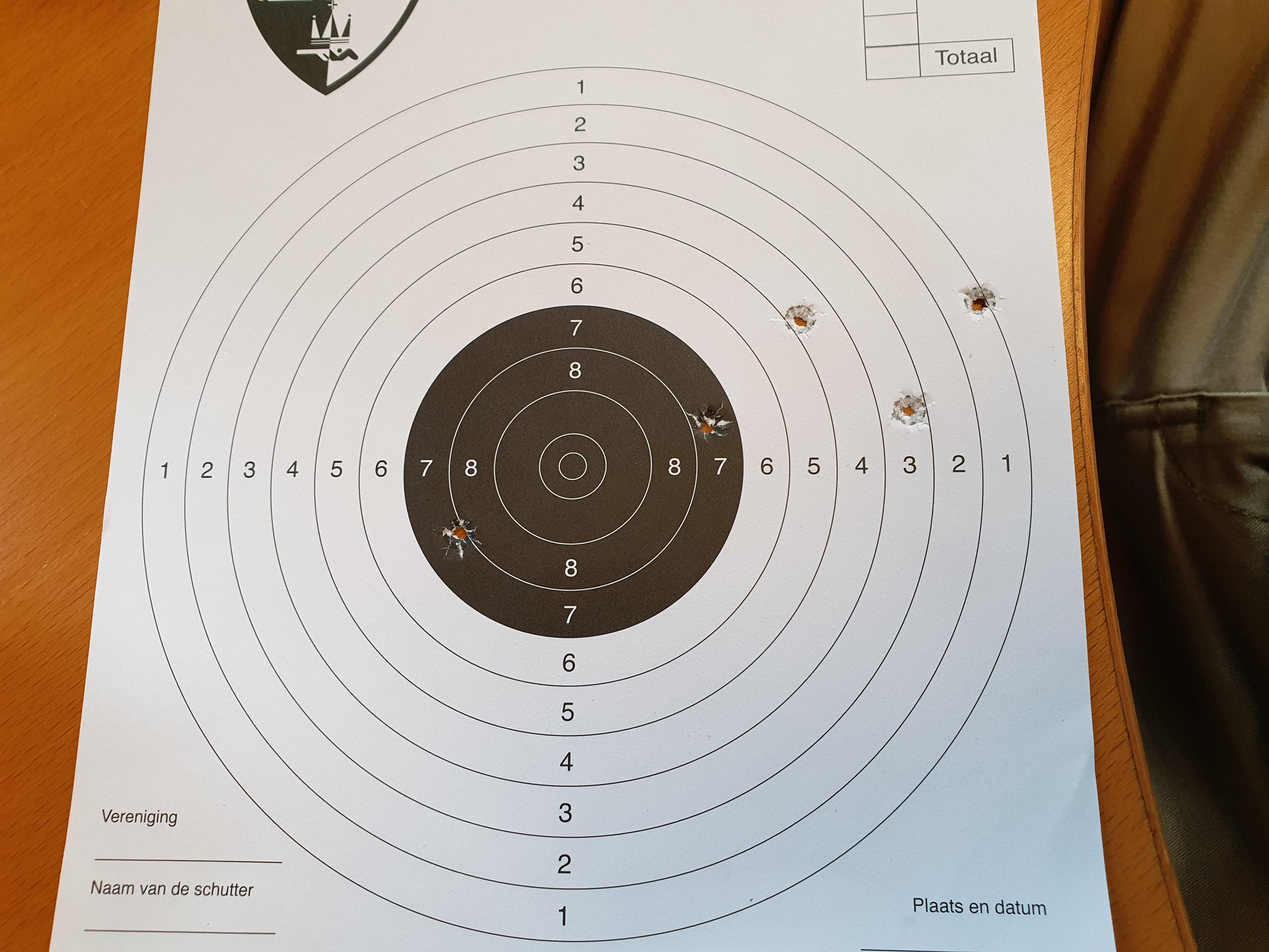hole: (517, 323, 591, 363), (838, 717, 902, 756), (808, 583, 877, 618), (668, 515, 737, 550), (687, 670, 752, 699)
